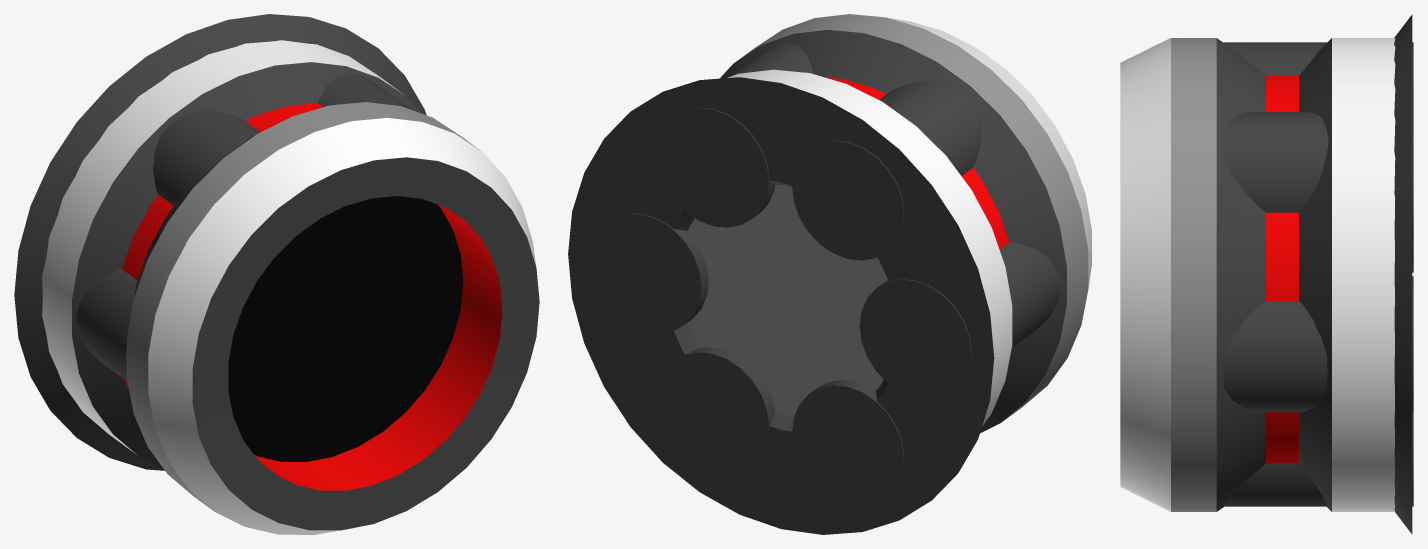
File: missileSilo.obj
The picture shows the model from 3 angles, left to right: view 1: azimuth 30°, elevation 25°; view 2: azimuth 150°, elevation 25°; view 3: azimuth 270°, elevation 25°; orthographic projection. The views are drawn at different scales.
Parts seen in each view (by area): view 1: Cylinder025, Tube001, Cylinder028, Cylinder029, Cylinder027; view 2: Cylinder025, Tube001, Cylinder028, Cylinder029, Cylinder027, Cylinder031, Cylinder026, Cylinder030; view 3: Cylinder025, Cylinder026, Tube001, Cylinder027, Cylinder031, Cylinder028.
Part boxes in pixels (x1,y1,x2,y2): Cylinder025: [42, 40, 539, 534]; Tube001: [14, 14, 426, 470]; Cylinder028: [153, 110, 260, 205]; Cylinder029: [76, 269, 137, 380]; Cylinder027: [318, 74, 411, 109]; Cylinder025: [687, 14, 1091, 433]; Tube001: [568, 77, 994, 534]; Cylinder028: [792, 79, 981, 260]; Cylinder029: [859, 242, 1060, 399]; Cylinder027: [657, 42, 813, 227]; Cylinder031: [657, 347, 775, 471]; Cylinder026: [590, 213, 708, 333]; Cylinder030: [792, 380, 904, 504]; Cylinder025: [1120, 38, 1395, 511]; Cylinder026: [1224, 276, 1413, 412]; Tube001: [1394, 14, 1412, 534]; Cylinder027: [1224, 112, 1413, 247]; Cylinder031: [1224, 412, 1413, 506]; Cylinder028: [1224, 42, 1413, 111].
Size of the model in its own units: 1.58 by 1.58 by 0.8891.
